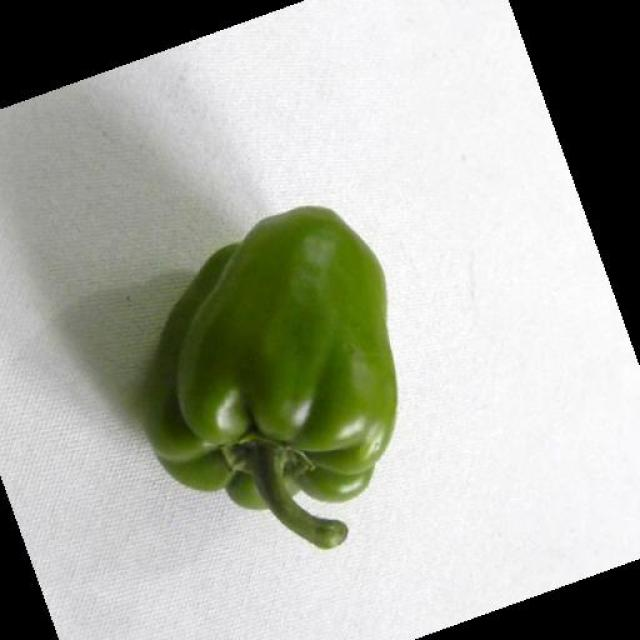Fresh_Capsicum: (156, 216, 406, 551)
